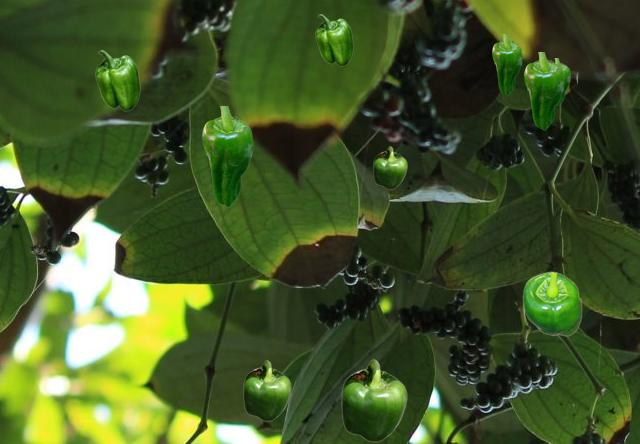bell_pepper: (341, 359, 406, 441), (202, 106, 252, 206), (522, 271, 581, 335), (524, 52, 563, 129), (243, 360, 290, 420), (95, 50, 139, 110), (315, 14, 352, 65), (492, 34, 521, 94), (373, 146, 406, 188), (554, 58, 569, 104)
